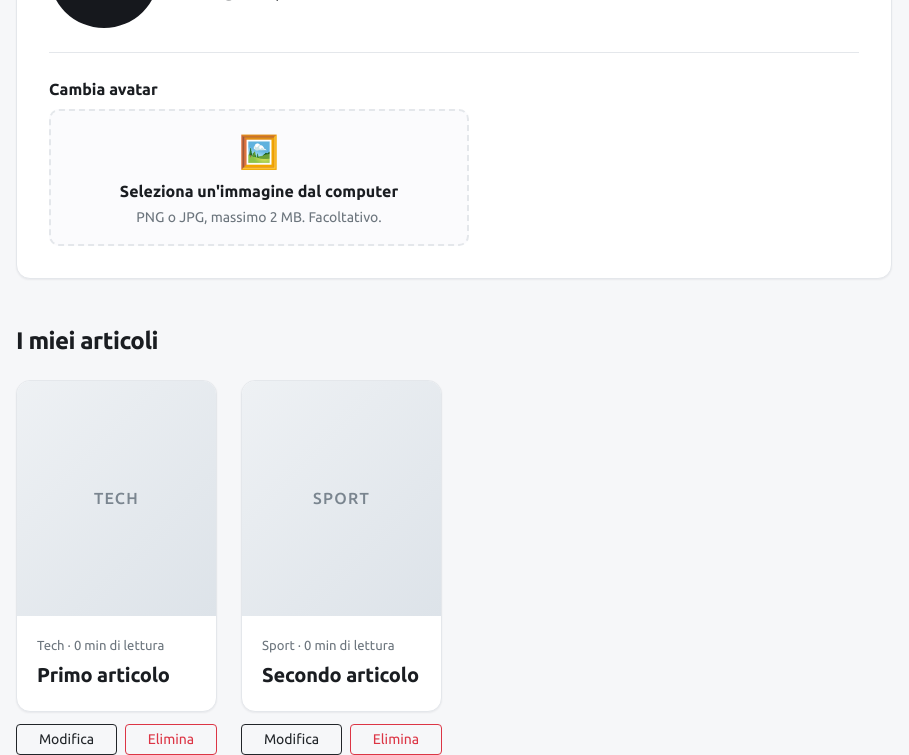
Test case: Profile — gestione dei miei articoli › cancella un articolo solo dopo la conferma e lo rimuove dalla lista
(page scrolled)
Step 1. Click the button "Elimina" below "Primo articolo" → (171, 740), box [125,724,217,754]
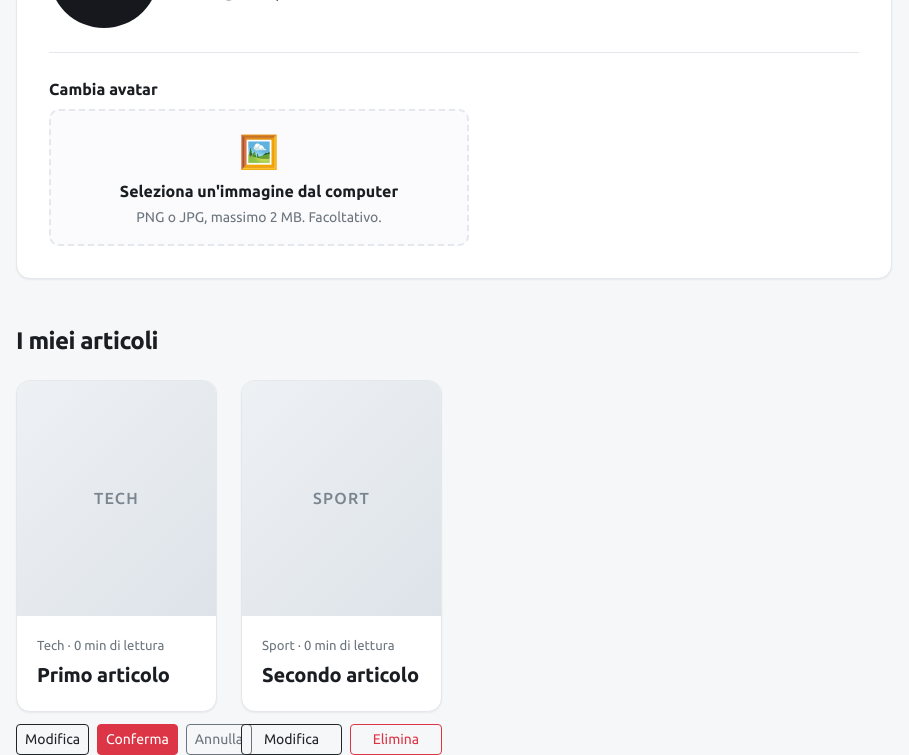
Step 2. Click the button "Conferma" → (138, 740), box [97,724,178,754]
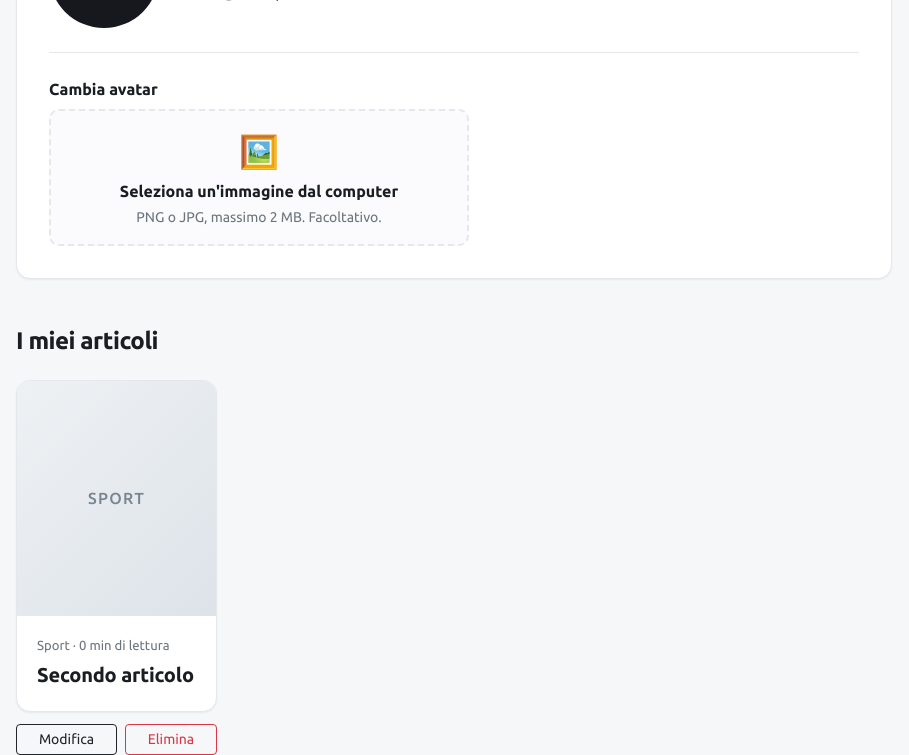
Expected: the heading "Secondo articolo" is shown, [37,664,196,688]
Result: the link "Primo articolo" is gone
